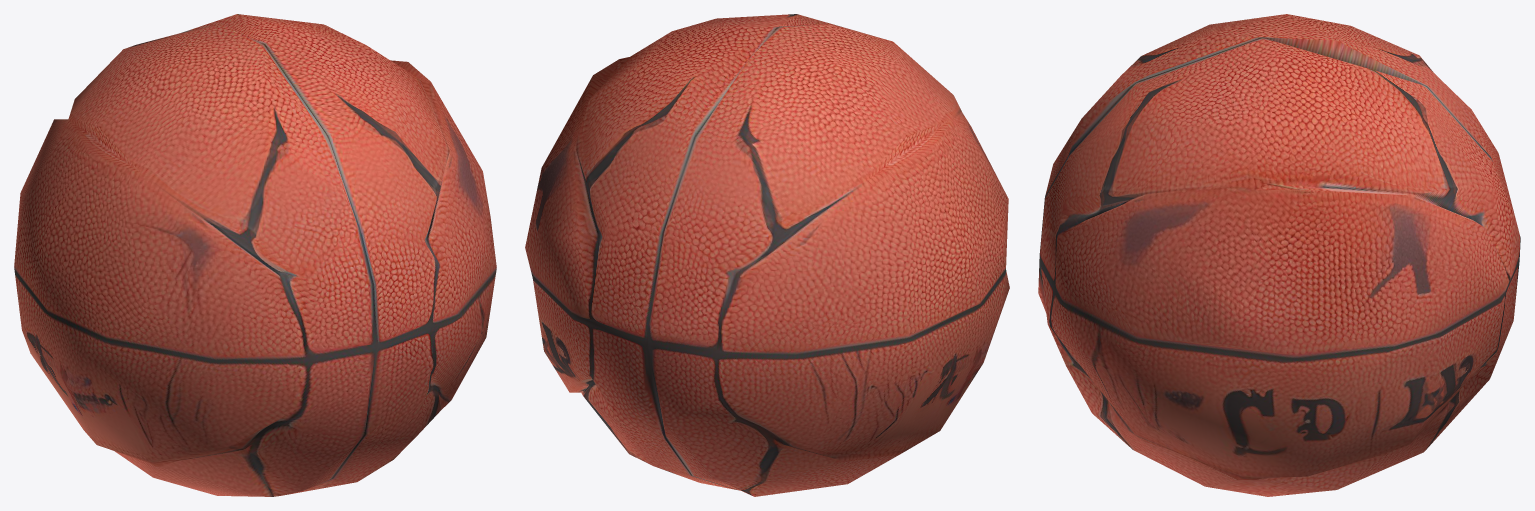
3 renders of one model, left to right at view 1: azimuth 30°, elevation 25°; view 2: azimuth 150°, elevation 25°; view 3: azimuth 270°, elevation 25°, orthographic.
Parts seen in each view (by area): view 1: tripo_node_6fbaeaff-9887-4210-8c1b-94aeed89f2fc; view 2: tripo_node_6fbaeaff-9887-4210-8c1b-94aeed89f2fc; view 3: tripo_node_6fbaeaff-9887-4210-8c1b-94aeed89f2fc.
Part boxes in pixels (x1,y1,x2,y2): tripo_node_6fbaeaff-9887-4210-8c1b-94aeed89f2fc: (14, 14, 496, 496); tripo_node_6fbaeaff-9887-4210-8c1b-94aeed89f2fc: (525, 14, 1009, 496); tripo_node_6fbaeaff-9887-4210-8c1b-94aeed89f2fc: (1038, 14, 1520, 496).
Size of the model in its own units: 0.9478 by 0.9494 by 0.9538.
Materials: 1 (1 with a texture image).
